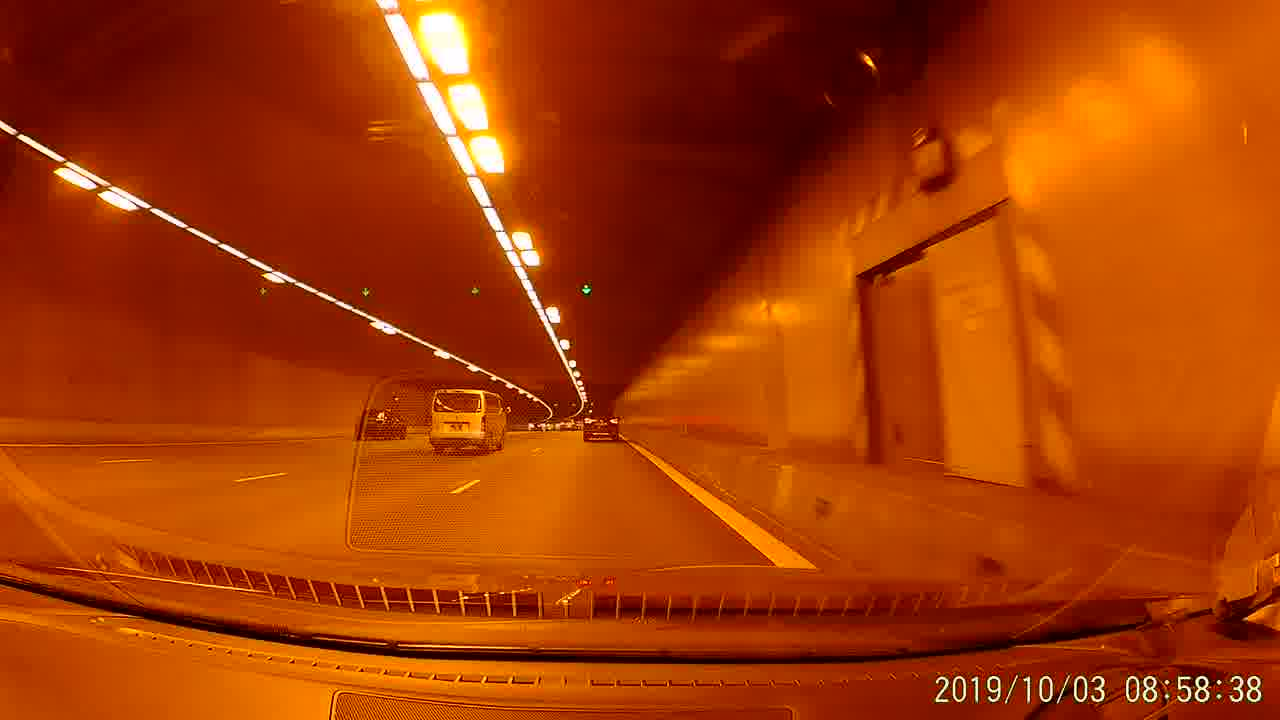car: (352, 406, 408, 443), (583, 408, 621, 442)
